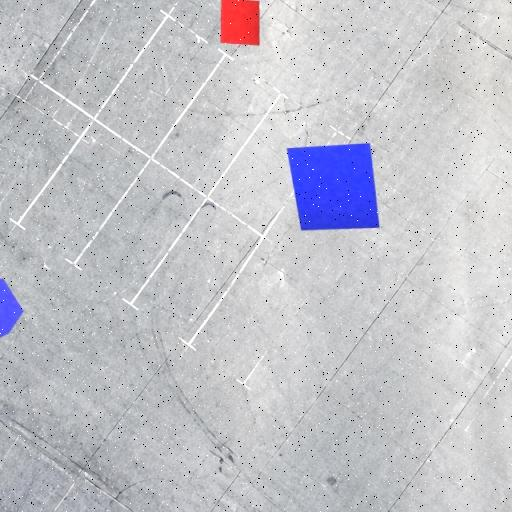BLUE_SQUARE: (286, 142, 380, 232)
RED_SQUARE: (220, 0, 261, 46)
